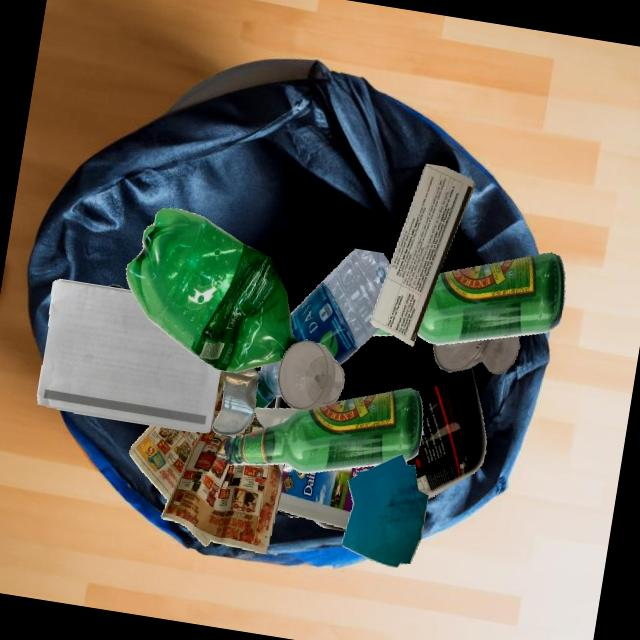glass: (223, 388, 423, 473), (417, 253, 565, 345), (278, 339, 344, 411), (433, 336, 519, 374), (212, 368, 259, 436), (106, 284, 124, 289)
paper: (37, 279, 220, 432), (128, 374, 282, 554), (370, 164, 475, 347), (342, 454, 429, 568)
plastic: (126, 208, 300, 373), (276, 387, 423, 529), (290, 249, 390, 365), (406, 367, 486, 499), (277, 464, 379, 529)
